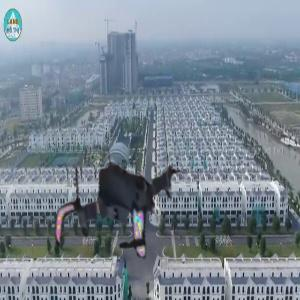drone: (49, 139, 191, 281)
